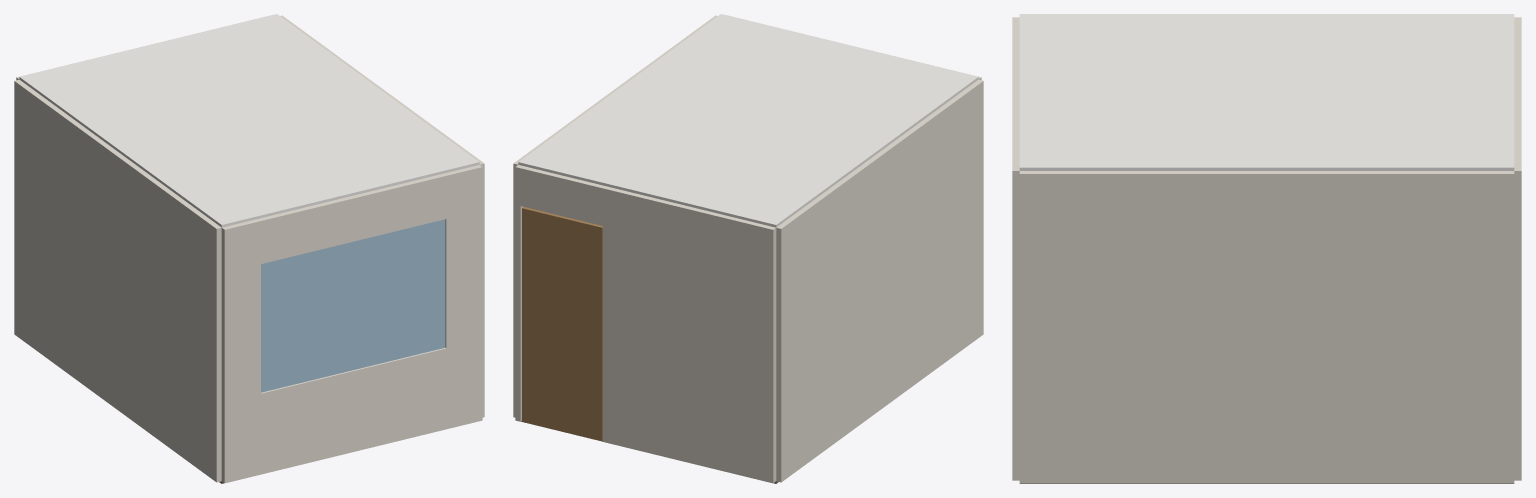
File: cabin_econom.glb
3 views of the same model, side by side, from view 1: azimuth 30°, elevation 25°; view 2: azimuth 150°, elevation 25°; view 3: azimuth 270°, elevation 25° (orthographic). The views are drawn at different scales.
Parts seen in each view (by area): view 1: cabin_econom (×3); view 2: cabin_econom (×3); view 3: cabin_econom (×2).
Boxes of the visible parts, x1,y1,x2,y2 form: cabin_econom (×3): [14, 14, 484, 483]; cabin_econom (×3): [513, 14, 983, 483]; cabin_econom (×2): [1012, 14, 1521, 483].
Bounding box in the file's own units: 2.6 × 2.4 × 3.5.
